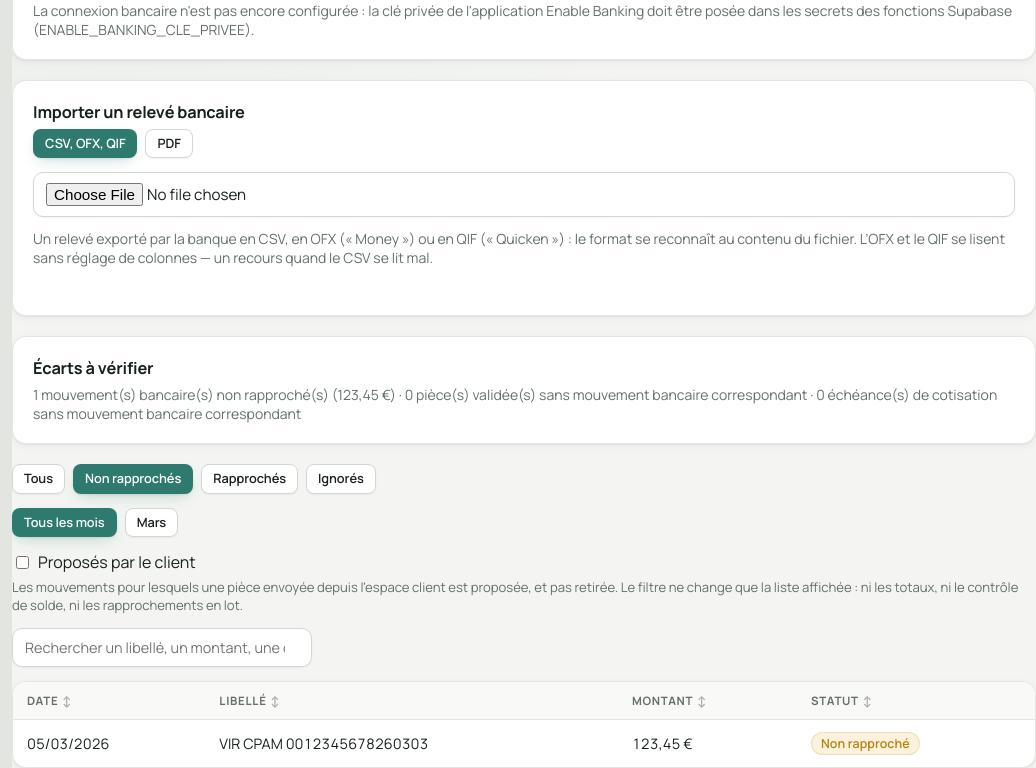
Test: l’association des paiements de l’assurance maladie, dans l’onglet Banque › drapeaux baissés : aucune des trois tables n’est lue, et ni la fiche ni la section n’en disent rien
(page scrolled)
Click the row "05/03/2026 VIR CPAM 0012345678260303 123,45 € Non rapproché". click: (68, 743)
box: [13, 719, 1035, 767]
(page scrolled)
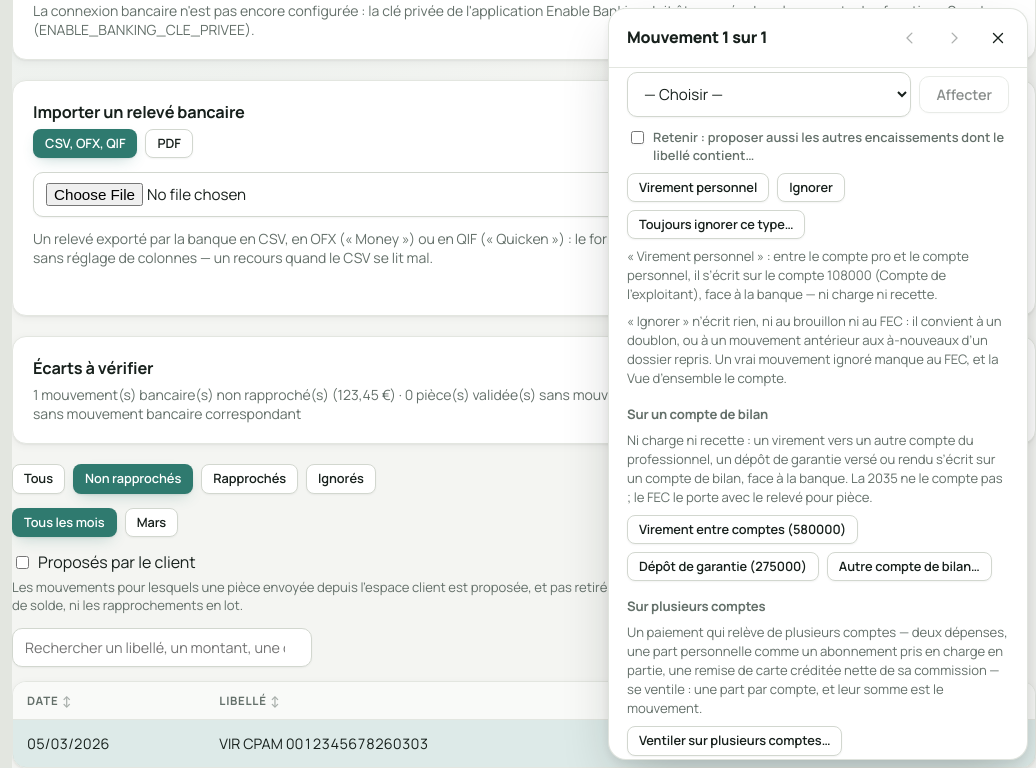
Check: the heading "Sur un compte de bilan" is shown, box [627, 404, 768, 422]
